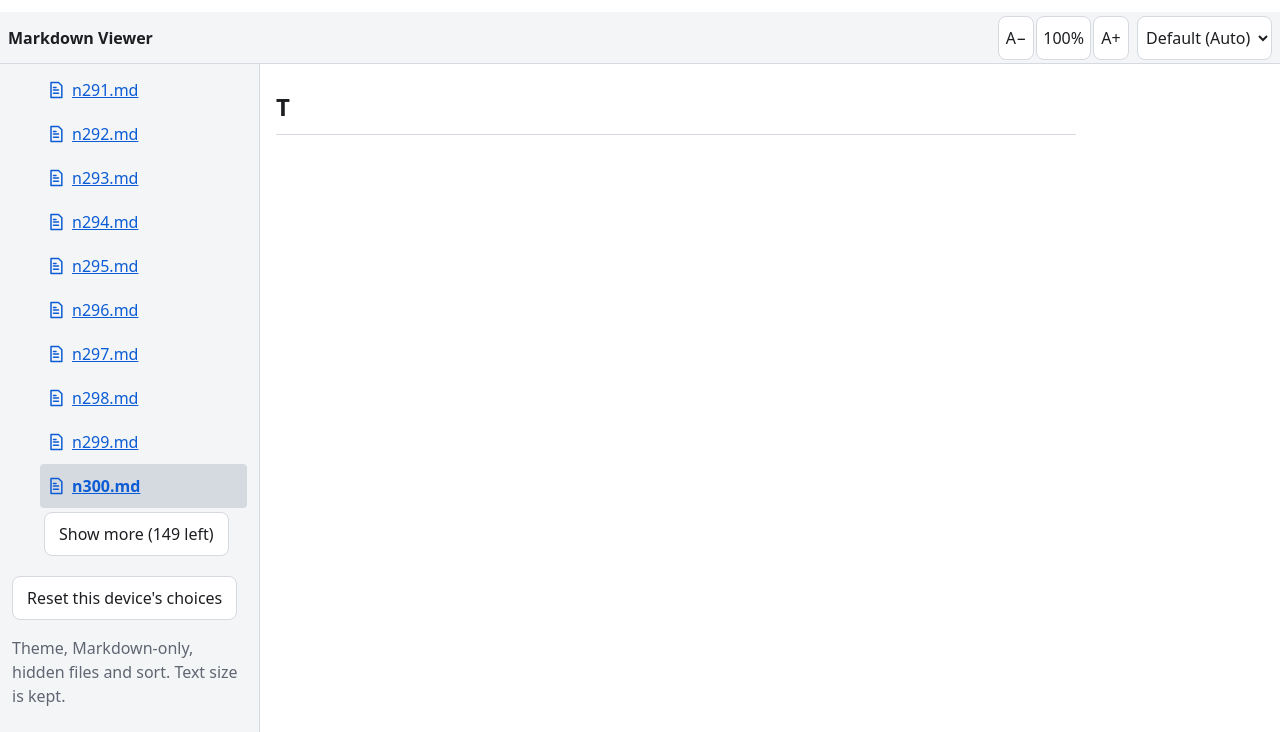
Test case: WorkspaceTree › pages a long folder and always shows the current file
(page scrolled)
Expected: the link "n300.md" is shown, [40, 464, 247, 508]
Click the button "Show more (149 left)". click: (136, 534)
box: [44, 512, 229, 556]
(page scrolled)
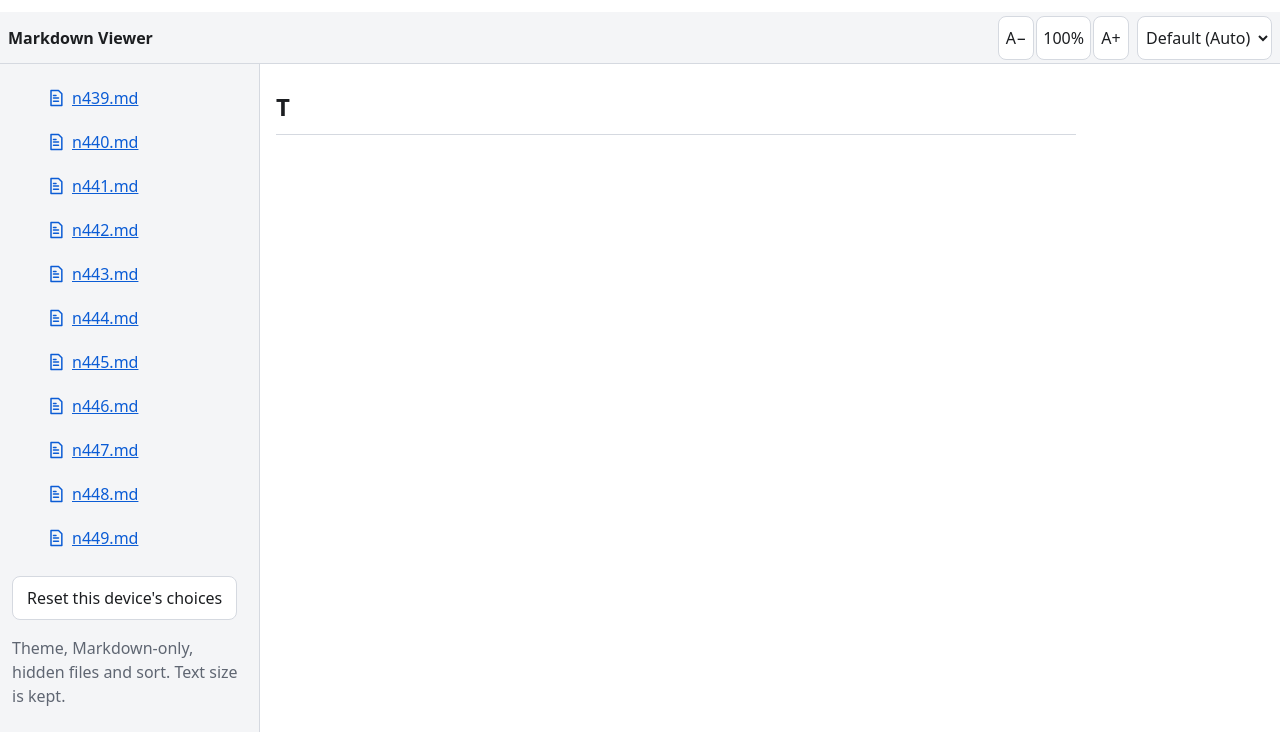
Expected: the link "n449.md" is shown, [46, 527, 138, 549]
Expected: the button "Show more" is gone
